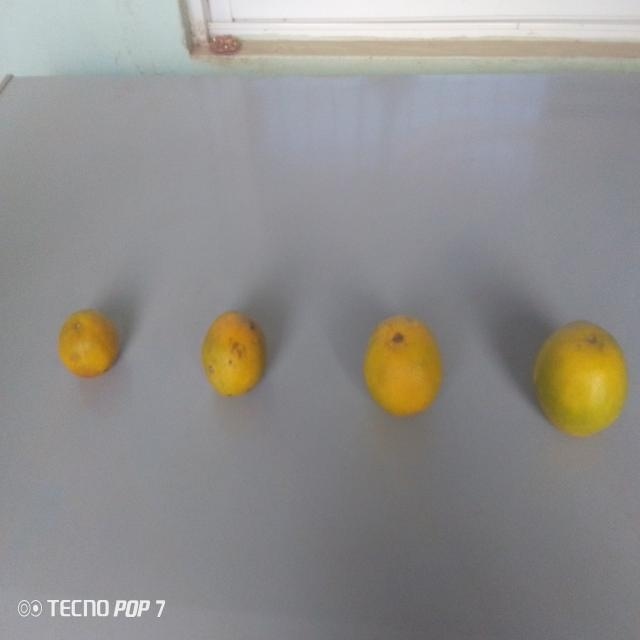Ripe orange: (530, 319, 634, 439), (360, 302, 446, 426), (196, 304, 267, 398), (54, 302, 124, 382)
